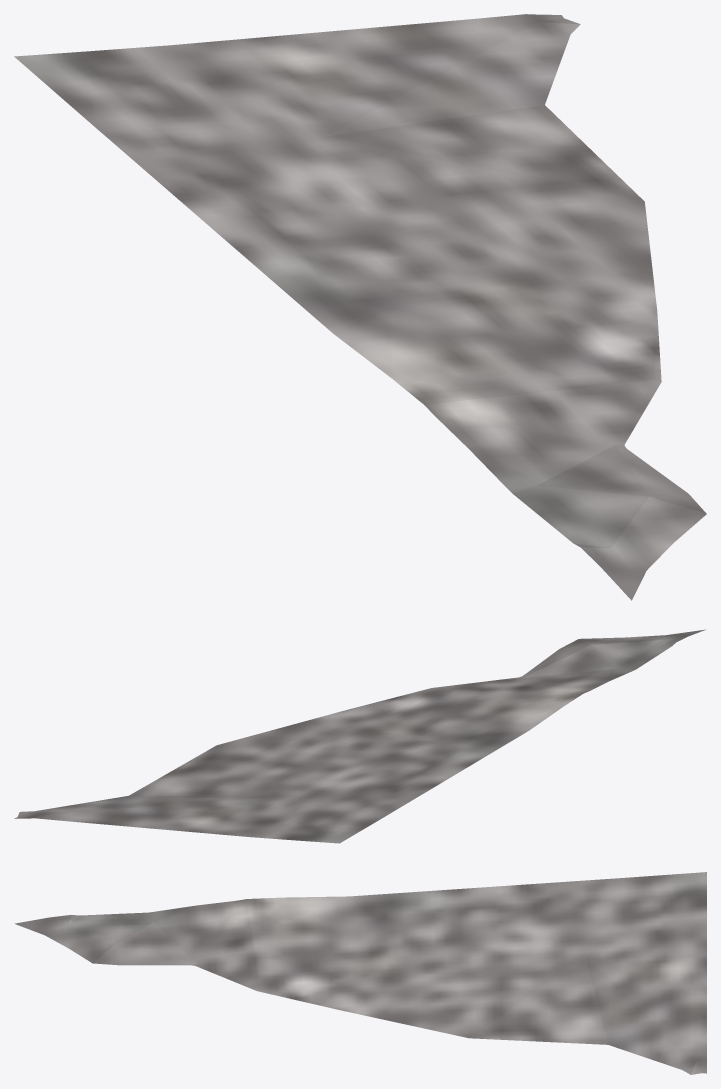
3 renders of one model, top to bottom at view 1: azimuth 30°, elevation 25°; view 2: azimuth 150°, elevation 25°; view 3: azimuth 270°, elevation 25°, orthographic. The views are drawn at different scales.
Bounding box in the file's own units: 0.1687 × 0.0269 × 0.3267.
1 material, 1 textured.
